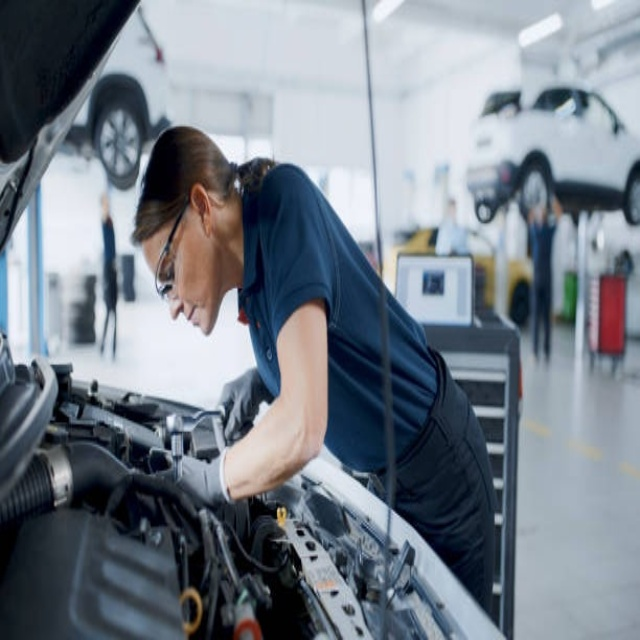Gafas: (156, 196, 191, 302)
Guantes: (218, 367, 272, 441), (178, 447, 229, 507)
Sin_mascara: (169, 300, 213, 340)
